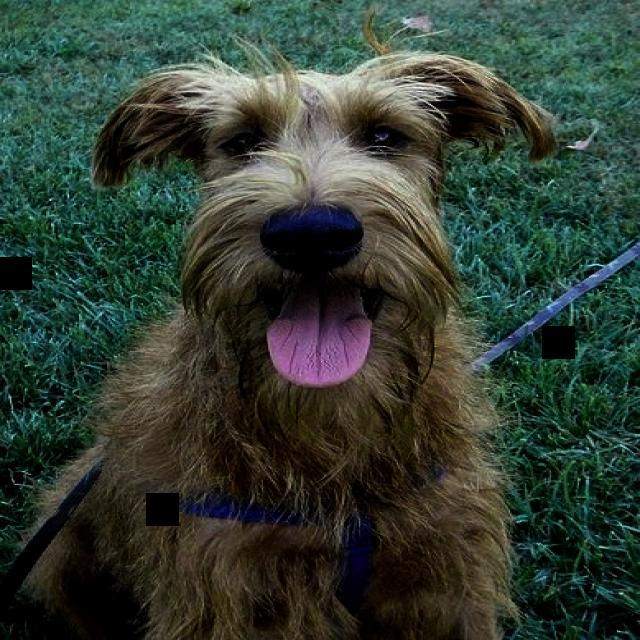adult_dog: (14, 29, 563, 640)
